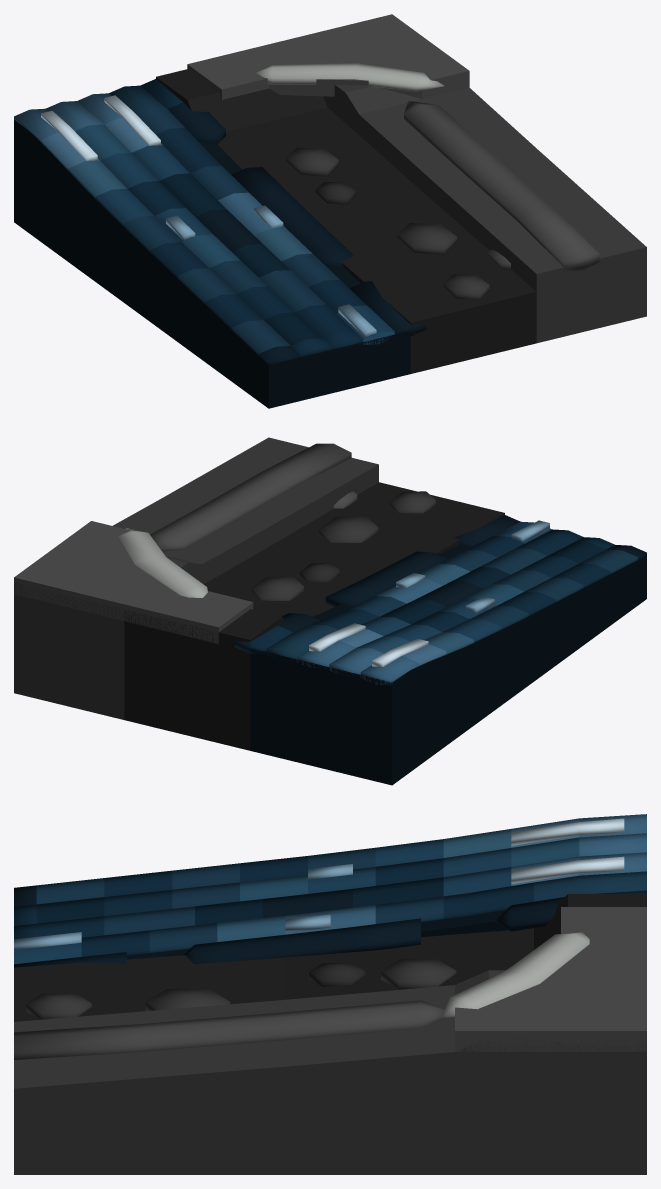
The model's file is newshh-153.glb.
3 renders of one model, top to bottom at view 1: azimuth 30°, elevation 25°; view 2: azimuth 150°, elevation 25°; view 3: azimuth 270°, elevation 25°, orthographic. The views are drawn at different scales.
Parts seen in each view (by area): view 1: newshh-153; view 2: newshh-153; view 3: newshh-153.
Part boxes in pixels (left/top/right/bottom): newshh-153: left=14, top=14, right=646, bottom=408; newshh-153: left=14, top=437, right=646, bottom=785; newshh-153: left=14, top=814, right=646, bottom=1174.
Size of the model in its own units: 2 by 0.61 by 2.33.
